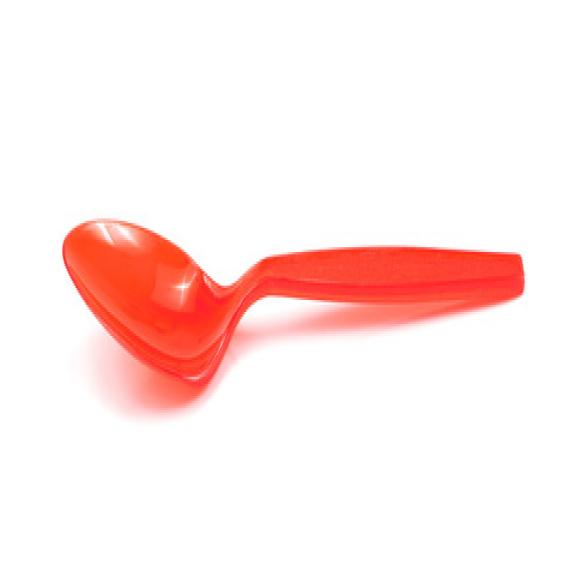Plastik: (63, 219, 524, 383)
